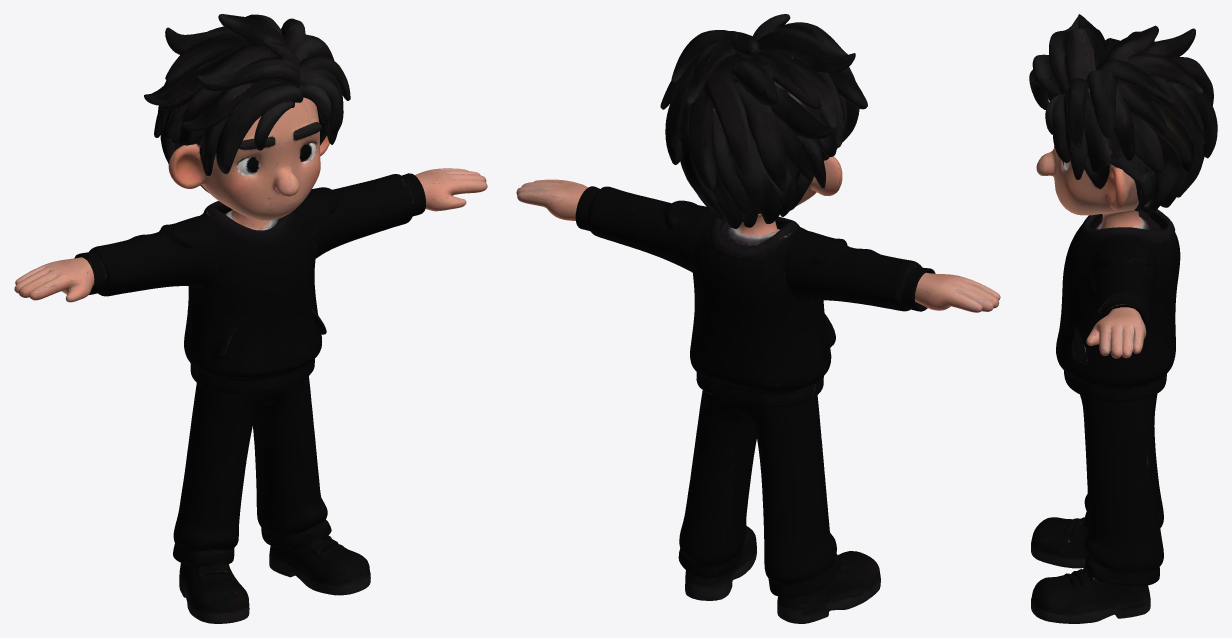
The model's file is putzz3d.glb.
3 renders of one model, left to right at view 1: azimuth 30°, elevation 25°; view 2: azimuth 150°, elevation 25°; view 3: azimuth 270°, elevation 25°, orthographic. The views are drawn at different scales.
Visible parts, largest first — view 1: world; view 2: world; view 3: world.
Boxes of the visible parts, x1,y1,x2,y2 form: world: (14, 14, 487, 623); world: (516, 14, 1000, 623); world: (1029, 14, 1217, 623).
Bounding box in the file's own units: 0.8758 × 1 × 0.3074.
Materials: 1 (1 with a texture image).
